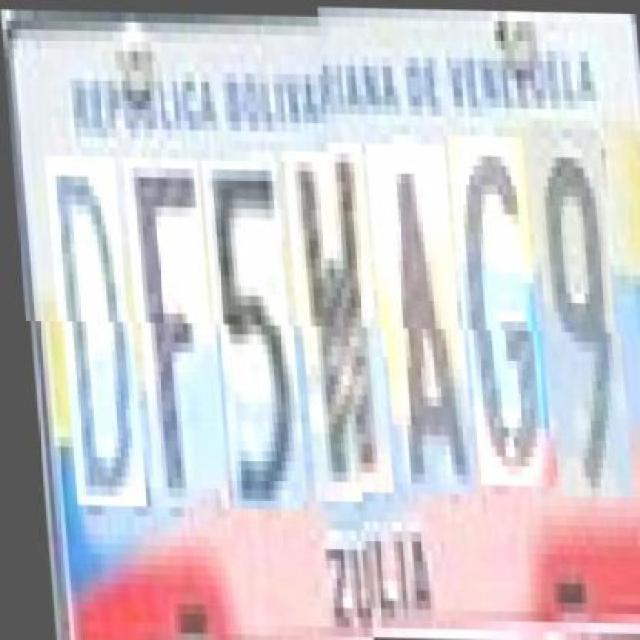5: (202, 158, 300, 510)
9: (532, 137, 626, 506)
a: (368, 152, 470, 502)
d: (47, 157, 138, 506)
f: (125, 157, 222, 508)
g: (450, 143, 548, 494)
w: (285, 150, 387, 501)
